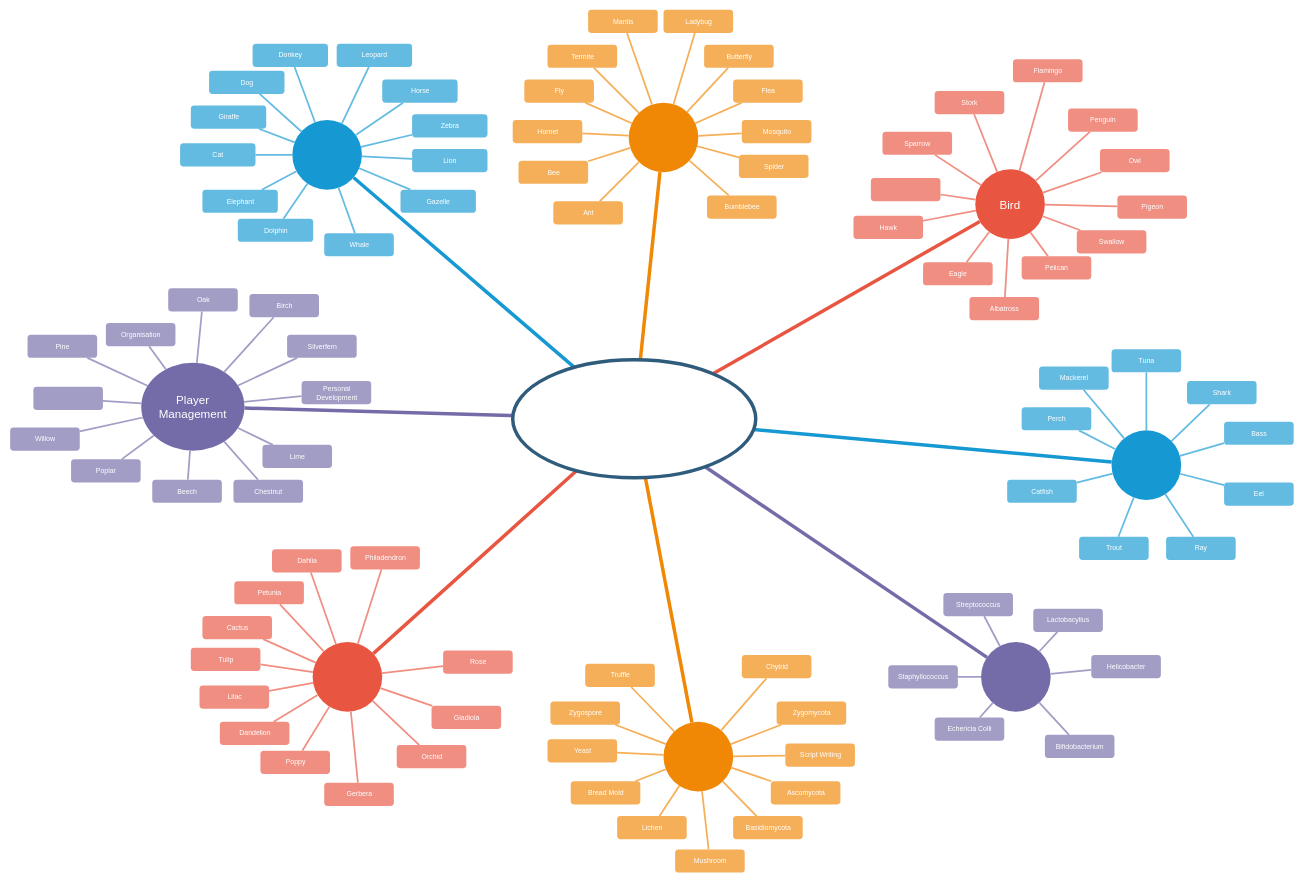
The diagram is 1303 pixels wide and 883 high, and some of its shapes have lost their labels. The shapes that lost their labels are listed below. From the top down, each one's centre as x and y in pixels, then its label:
the point at 327,154: Mammal
the point at 663,137: Insect
the point at 905,189: Falcon
the point at 68,398: Acacia
the point at 634,418: Casino Management System (CMS)
the point at 1146,465: Fish
the point at 347,676: Flower
the point at 1015,676: Bacteria
the point at 698,756: Fungi
